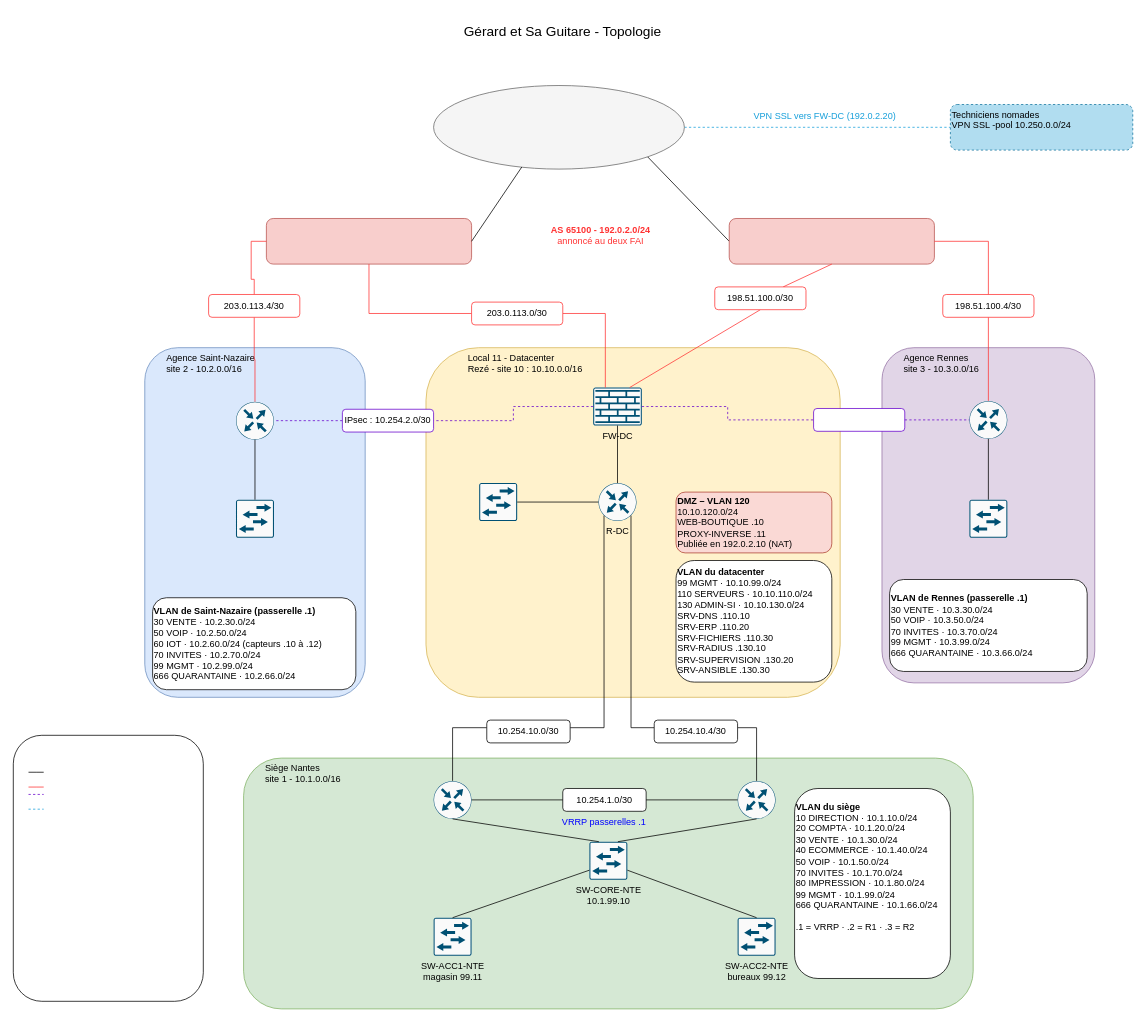
Some shapes in this 1146 by 1022 pixel diagram are drawn without their labels. The shapes that lost their labels are listed below. From the top down, each one's centre as x and y in pixels, then its label:
pixel 558 127: Internet
pixel 369 241: Distortion Télécom (FAI 1) AS 65001
pixel 831 241: Unplugged Networks (FAI 2) AS 65002
pixel 254 420: R-SNZ
pixel 859 419: IPsec : 10.254.3.0/30
pixel 988 419: R-REN
pixel 254 518: SW-SNZ 10.2.99.10
pixel 497 501: SW-DC 10.10.99.10
pixel 988 518: SW-REN 10.3.99.10
pixel 452 799: R1-NTE
pixel 756 799: R2-NTE
pixel 108 868: Légende lien privée (OSPF) lien FAI (BGP) Tunnel IPsec Tunnel SSL
